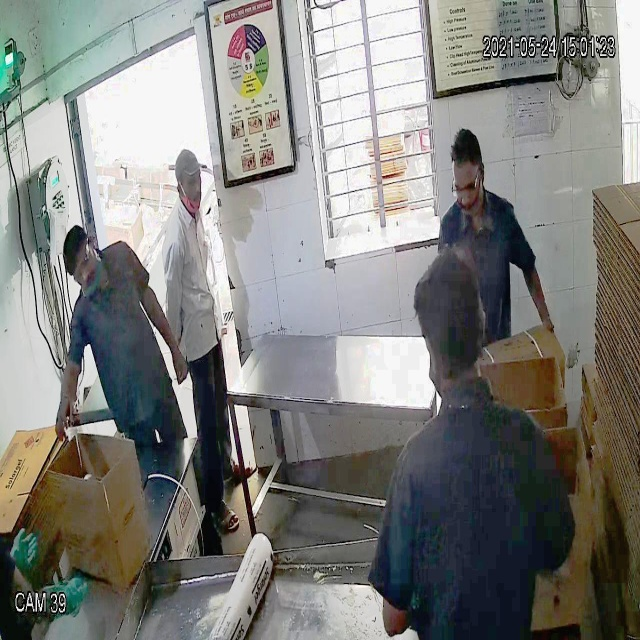Gafas: (63, 247, 96, 286), (448, 172, 488, 204)
Sin_gafas: (175, 171, 208, 196)
